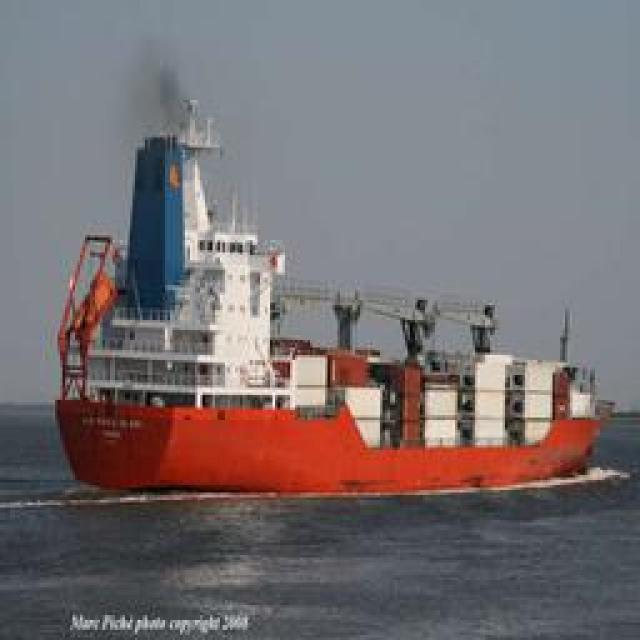CIV_Ship: (49, 251, 609, 504)
